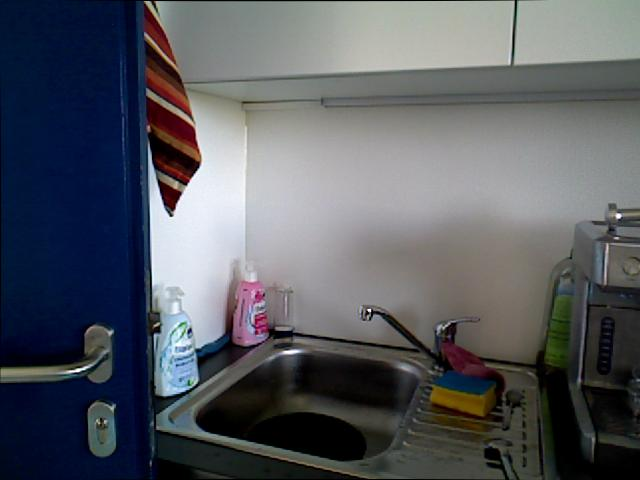bench: (531, 242, 583, 383), (152, 282, 204, 401), (232, 257, 267, 347)
couch: (186, 339, 429, 466)
toilet: (480, 433, 531, 480), (502, 386, 526, 431)
